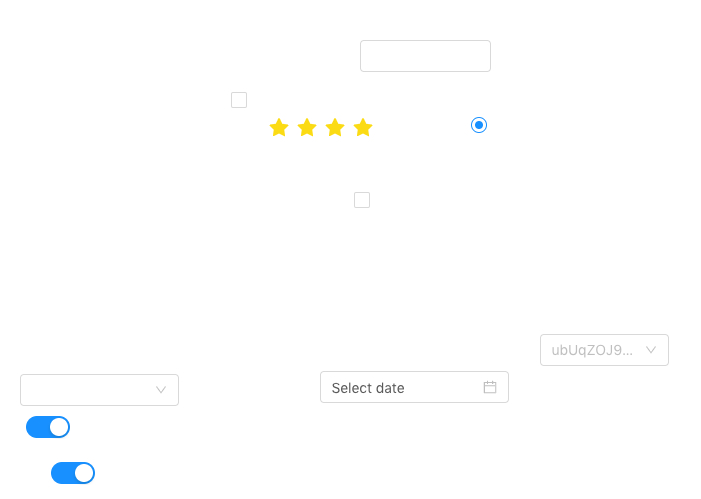Checkbox: (231, 89, 247, 110), (354, 189, 370, 210)
DatePicker: (320, 371, 509, 403)
Input: (360, 40, 491, 72)
Radio: (471, 114, 487, 134)
Rate: (269, 111, 389, 143)
Select: (20, 374, 179, 406), (540, 334, 669, 366)
Switch: (26, 415, 70, 439), (51, 461, 95, 485)
